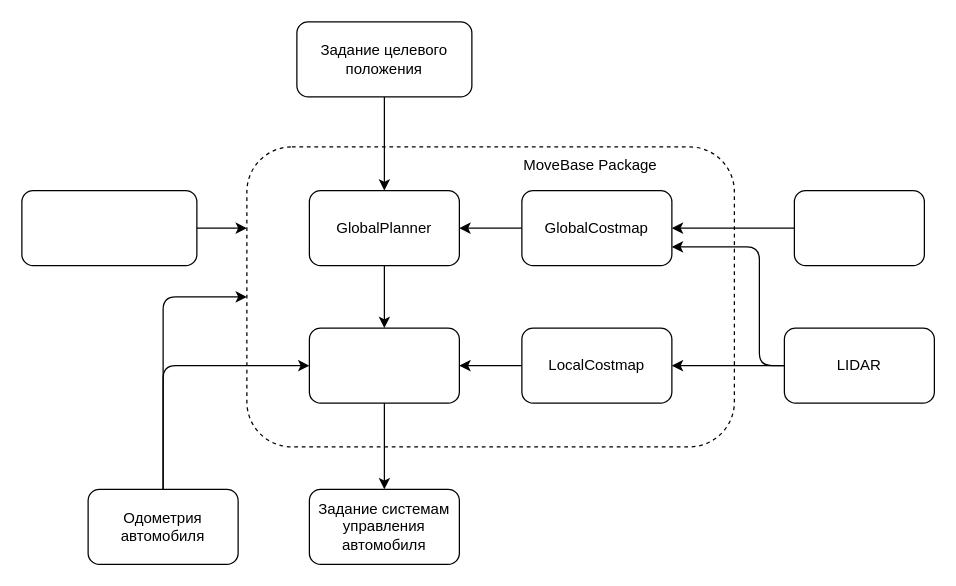
Some shapes in this 956 by 586 pixel diagram are drawn without their labels. The shapes that lost their labels are listed below. From the top down, each one's centre as x and y in pixels, then its label:
the point at 109,227: Adaptive Monte Carlo Localization
the point at 858,227: MapServer (Saved map)
the point at 383,365: TEBLocalPlanner
